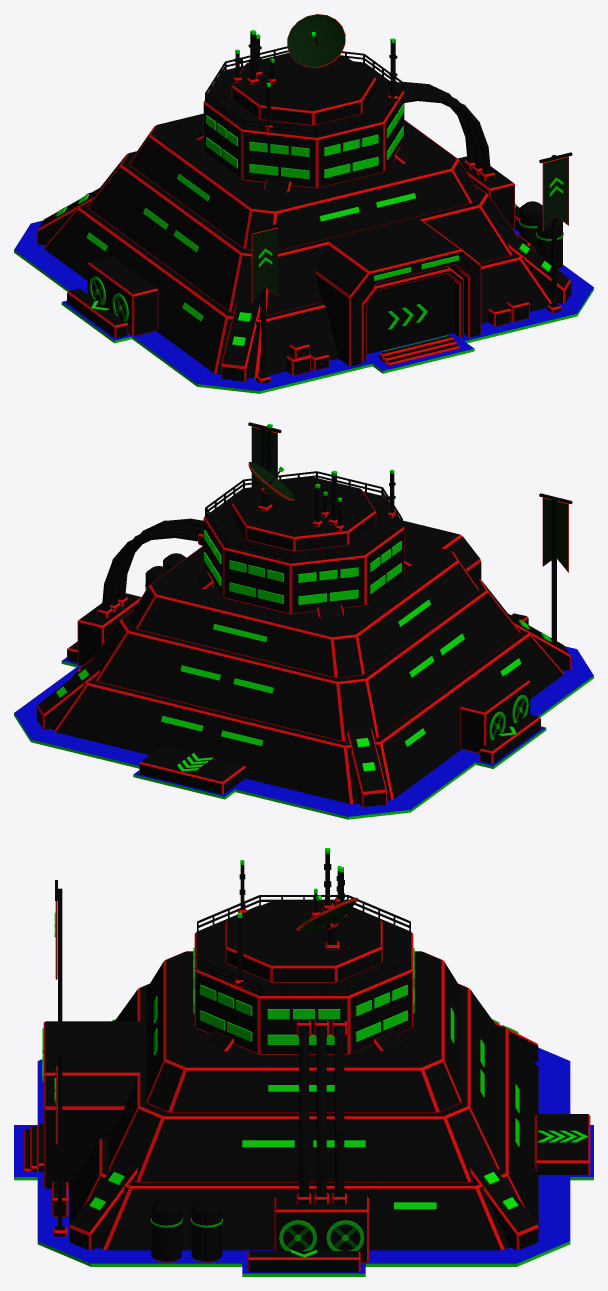
File: SM_Holo_CentralHub_T3.fbx
3 views of the same model, one above another, from view 1: azimuth 30°, elevation 25°; view 2: azimuth 150°, elevation 25°; view 3: azimuth 270°, elevation 25° (orthographic). The views are drawn at different scales.
Visible parts, largest first — view 1: SM_Holo_CentralHub_T3; view 2: SM_Holo_CentralHub_T3; view 3: SM_Holo_CentralHub_T3.
Part boxes in pixels (bbox=[...]): SM_Holo_CentralHub_T3: bbox=[14, 14, 593, 393]; SM_Holo_CentralHub_T3: bbox=[14, 422, 593, 819]; SM_Holo_CentralHub_T3: bbox=[14, 848, 593, 1276].
Size of the model in its own units: 49 by 26.32 by 49.
